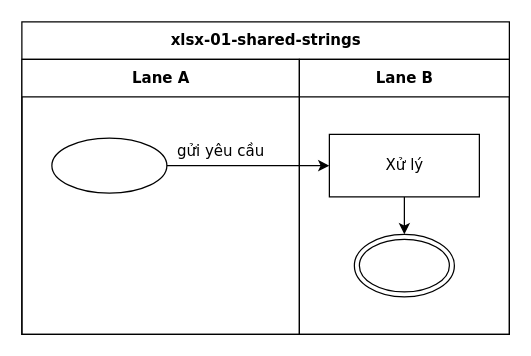
This 531x356 diagram has some shape labels left out. Here are the shapes that lost their labels. From the top down, the box of each, then its label:
(51, 137, 167, 193): Bắt đầu
(353, 233, 454, 297): Xong
